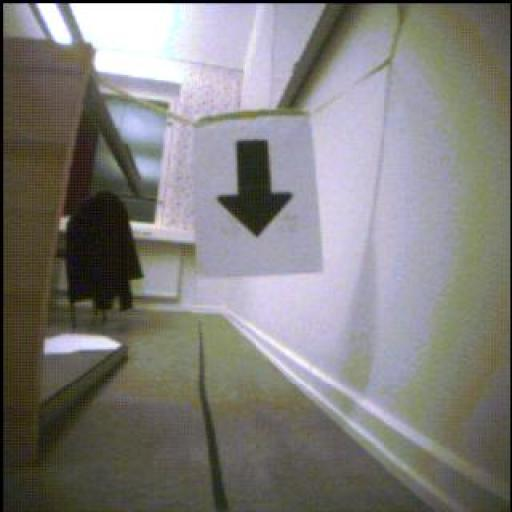arrow: (219, 142, 294, 238)
